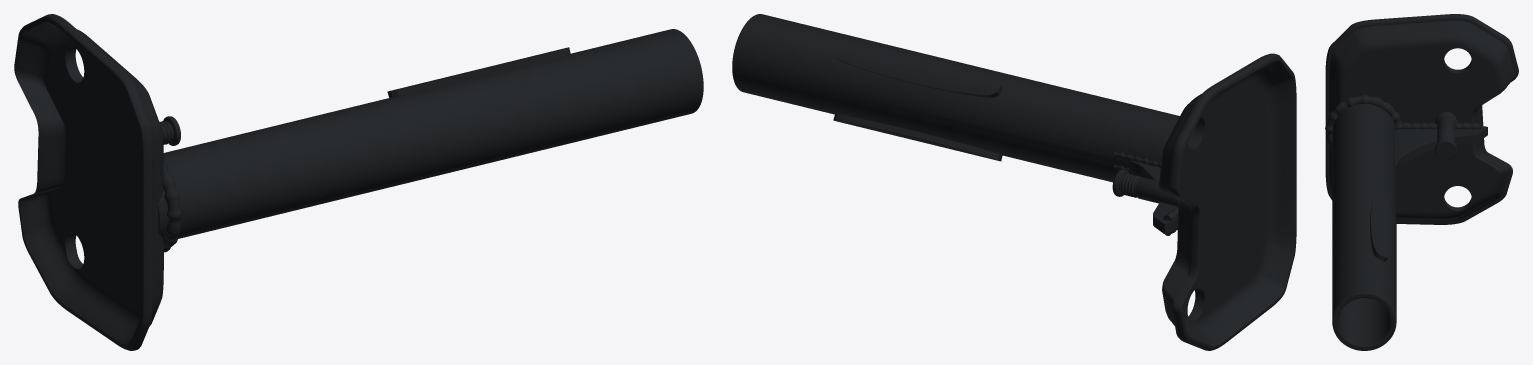
File: front-footrest-left-inspection.glb
The picture shows the model from 3 angles, left to right: view 1: azimuth 30°, elevation 25°; view 2: azimuth 150°, elevation 25°; view 3: azimuth 270°, elevation 25°; orthographic projection. The views are drawn at different scales.
Visible parts, largest first — view 1: PF113000 related metal support - isolated candidate; view 2: PF113000 related metal support - isolated candidate; view 3: PF113000 related metal support - isolated candidate.
Part boxes in pixels (x1,y1,x2,y2): PF113000 related metal support - isolated candidate: [14, 14, 703, 350]; PF113000 related metal support - isolated candidate: [732, 14, 1296, 350]; PF113000 related metal support - isolated candidate: [1325, 14, 1518, 350].
Size of the model in its own units: 0.165 by 0.0792 by 0.0664.
1 material, 1 textured.
